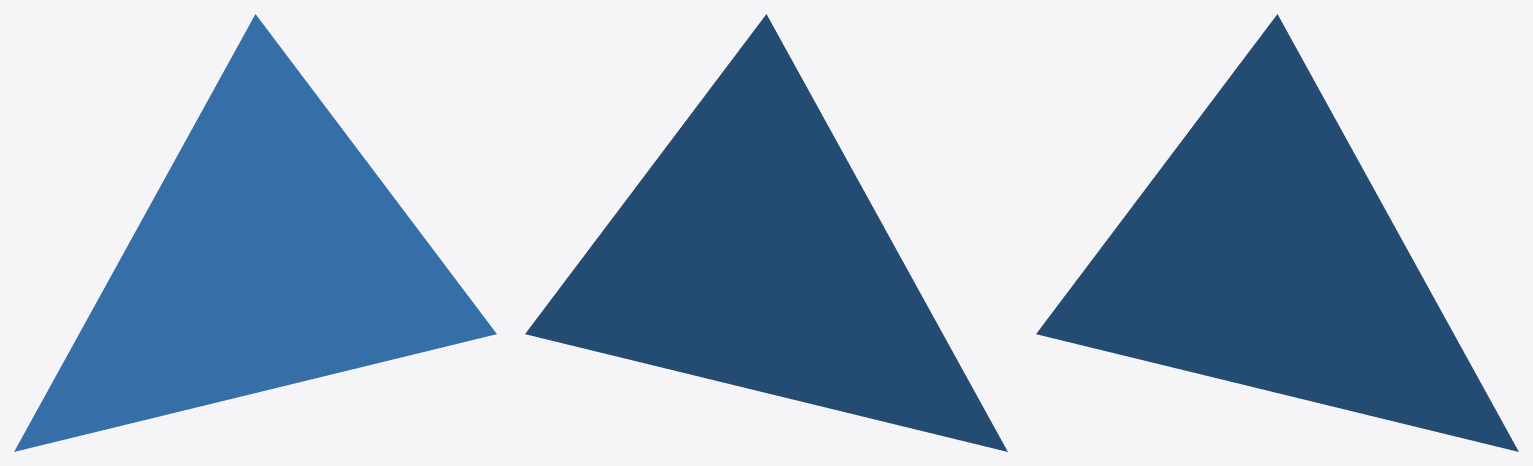
Rendered from fixture.glb.
The picture shows the model from 3 angles, left to right: view 1: azimuth 30°, elevation 25°; view 2: azimuth 150°, elevation 25°; view 3: azimuth 330°, elevation 25°; orthographic projection.
Visible parts, largest first — view 1: FixtureTriangle; view 2: FixtureTriangle; view 3: FixtureTriangle.
Part boxes in pixels (x1=…): FixtureTriangle: x1=14, y1=14, x2=496, y2=451; FixtureTriangle: x1=525, y1=14, x2=1007, y2=451; FixtureTriangle: x1=1036, y1=14, x2=1518, y2=451.
Bounding box in the file's own units: 2 × 1.5 × 0.
